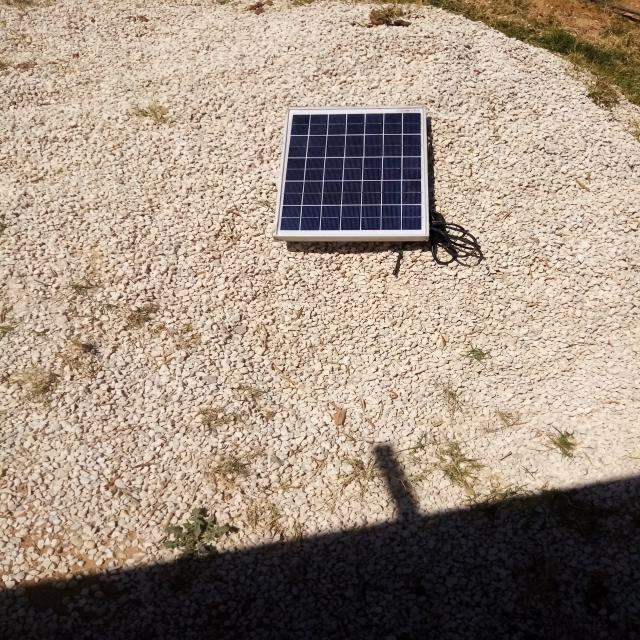Normal Solar Panel: (274, 106, 428, 235)
